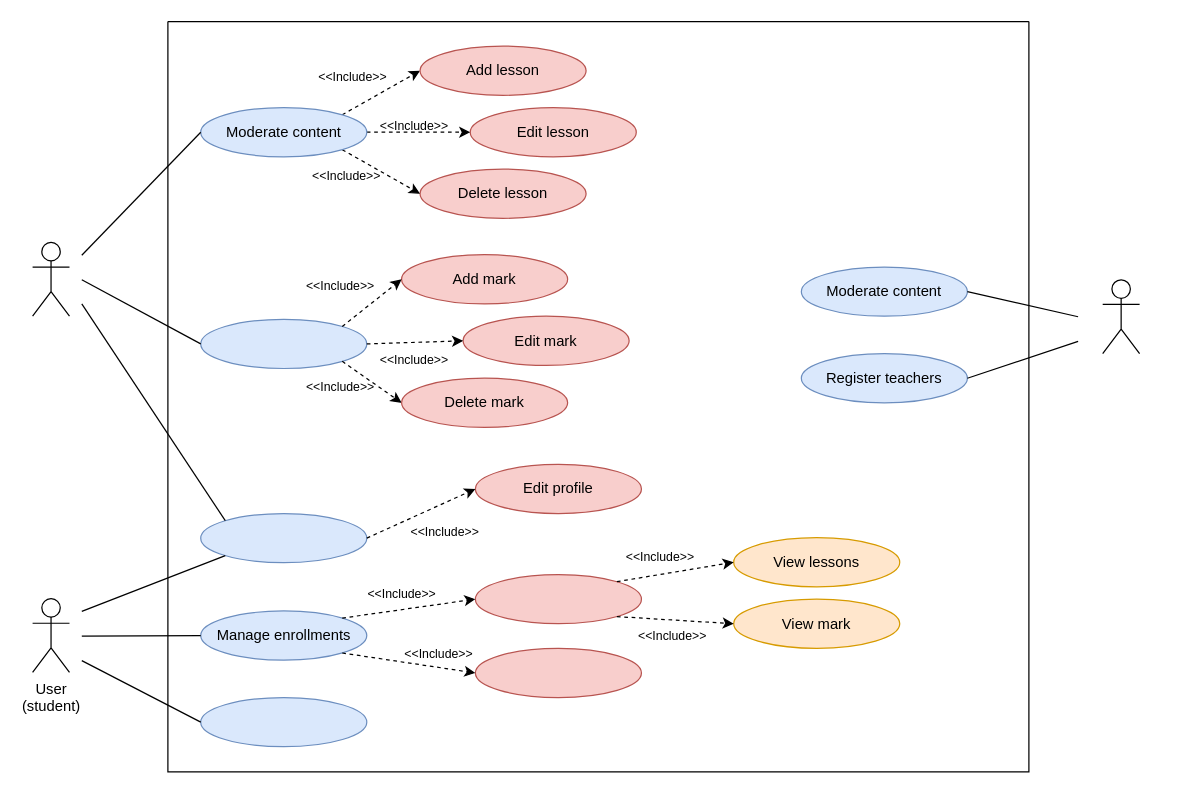
Some shapes in this 1186 by 793 pixel diagram are drawn without their labels. The centre of each missing label's shape, as x and y in pixels:
Administrator: (x=1120, y=316)
Enroll in subject: (x=557, y=598)
Manage student marks: (x=283, y=343)
Manage user: (x=283, y=537)
Request certificate: (x=283, y=721)
Unenroll in subject: (x=557, y=672)
User (teacher): (x=50, y=278)
